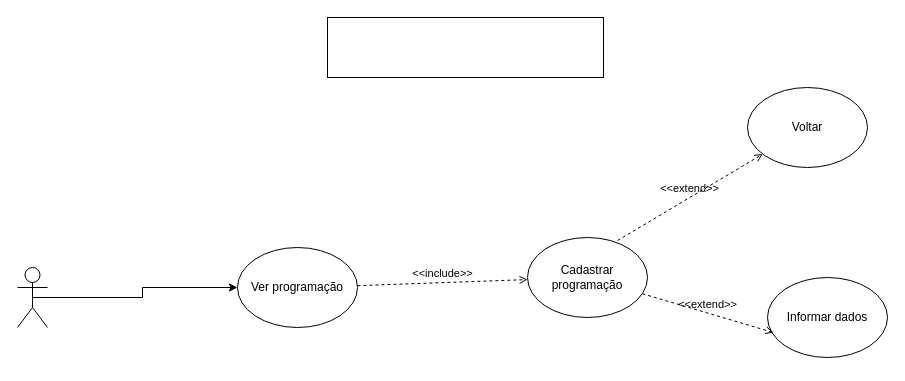
Some shapes in this 905 by 381 pixel diagram are drawn without their labels. Each missing label, with the centre of its shape:
"ADM" goes at point (32, 297).
"CASO DE USO 4" goes at point (465, 47).
